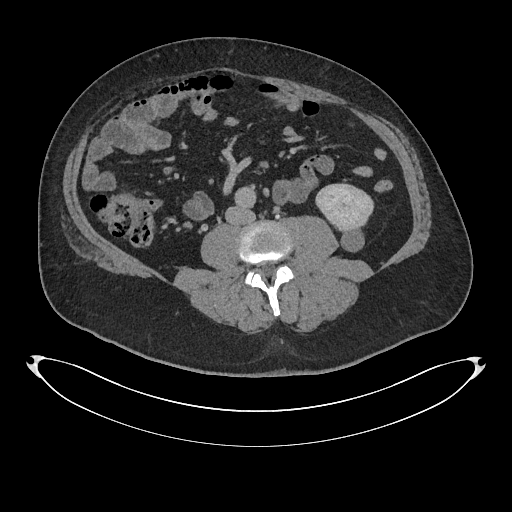Lesion: (338, 226, 367, 253)
